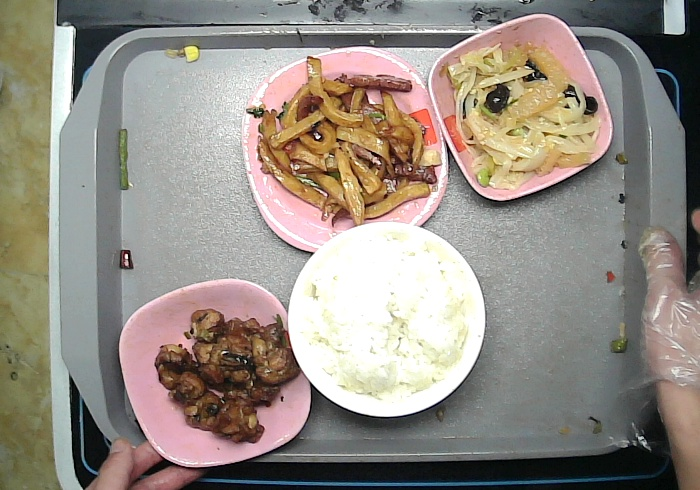SHKJ-Fan_Wan: (287, 217, 489, 427)
SHKJ-Fen_Se_Cai_Die: (117, 274, 322, 471)
SHKJ-Fen_Se_Si_Fang_Cai_Die: (243, 46, 452, 254)
SHKJ-Fen_Se_Xiao_Fang_Die: (424, 10, 616, 206)
